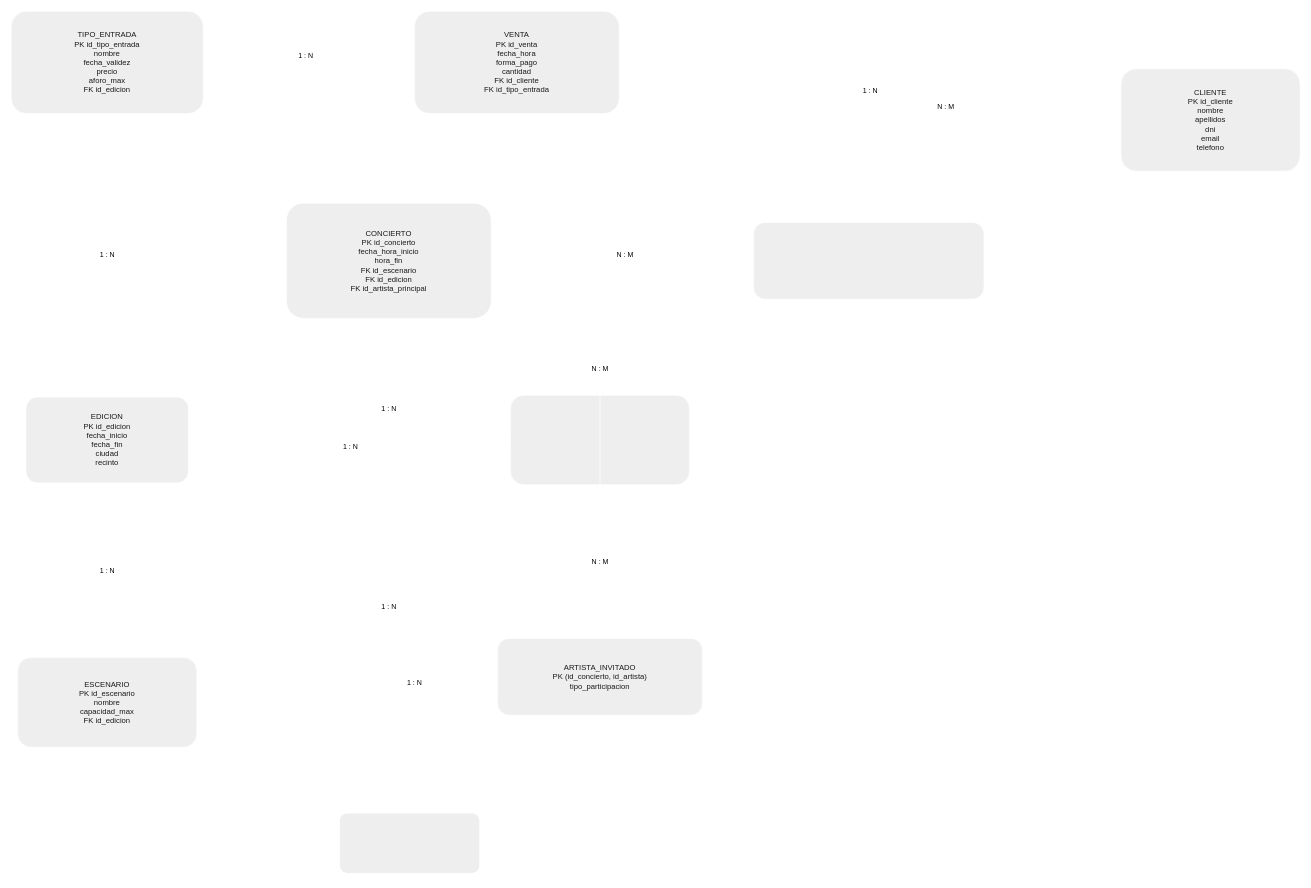
This 1311x888 diagram has some shape labels left out. The centre of each missing label's shape, as x and y in pixels:
"ACCESO_CONCIERTO PK (id_cliente, id_concierto, hora_acceso) hora_acceso" goes at point (868, 260).
"ARTISTA PK id_artista nombre_artistico pais genero" goes at point (600, 440).
"PUESTOS PK id_puesto Nombre Tipo de Producto" goes at point (409, 843).
